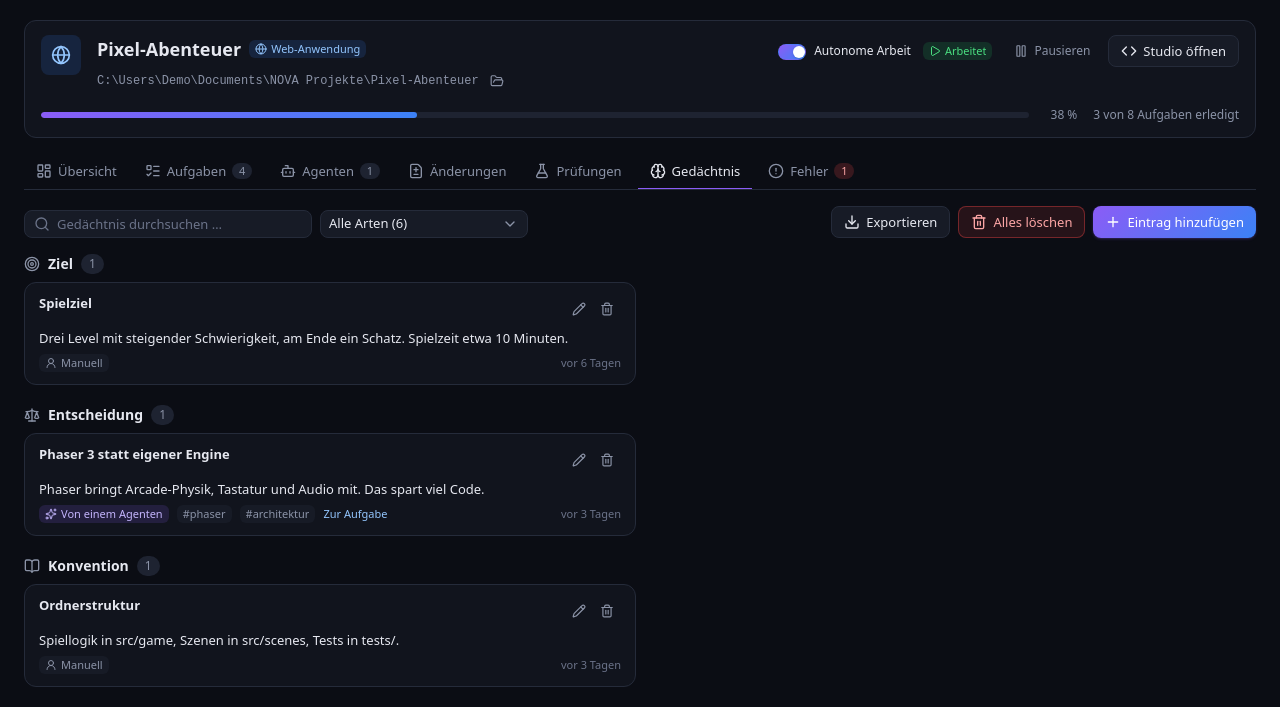
Gedächtnis › clears the whole project memory after confirmation
This screenshot has width=1280, height=707.
Expected: the element "Ziel" is shown, left=24, top=254, right=636, bottom=385
Click the button "Alles löschen" at x=1022, y=222, box left=958, top=206, right=1085, bottom=238
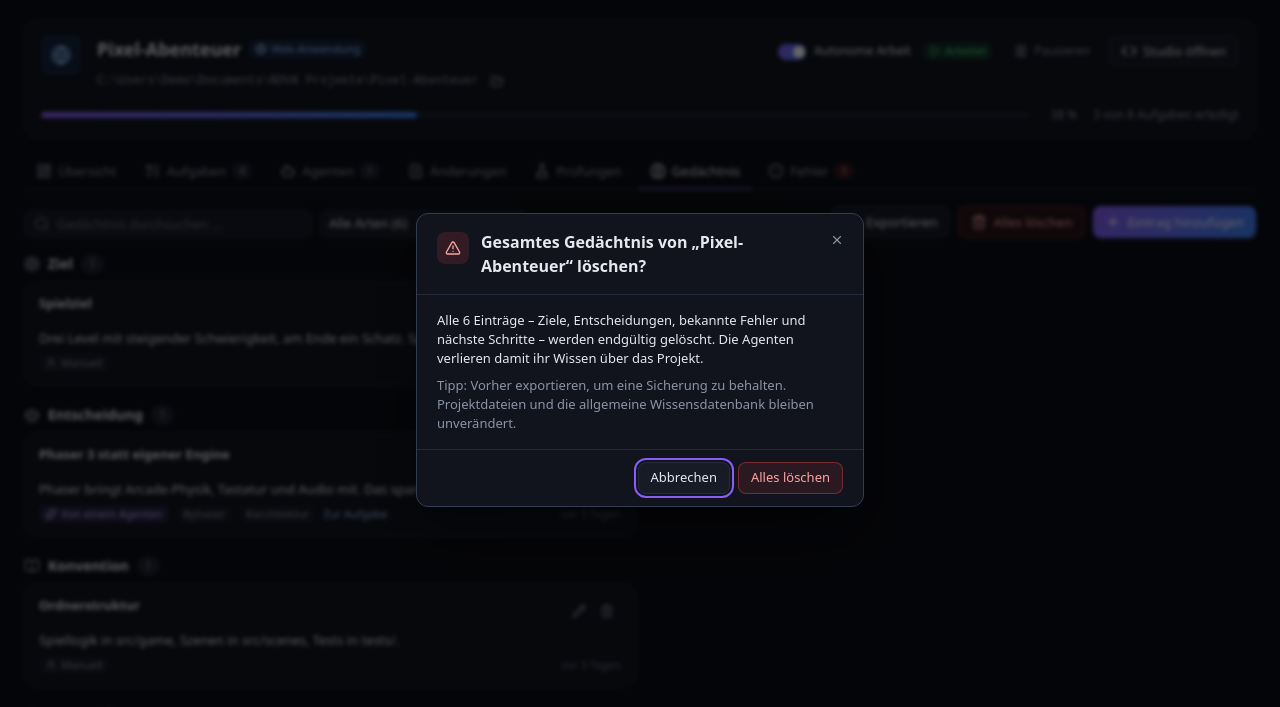
Click the button "Alles löschen" at x=790, y=478, box left=738, top=462, right=843, bottom=494
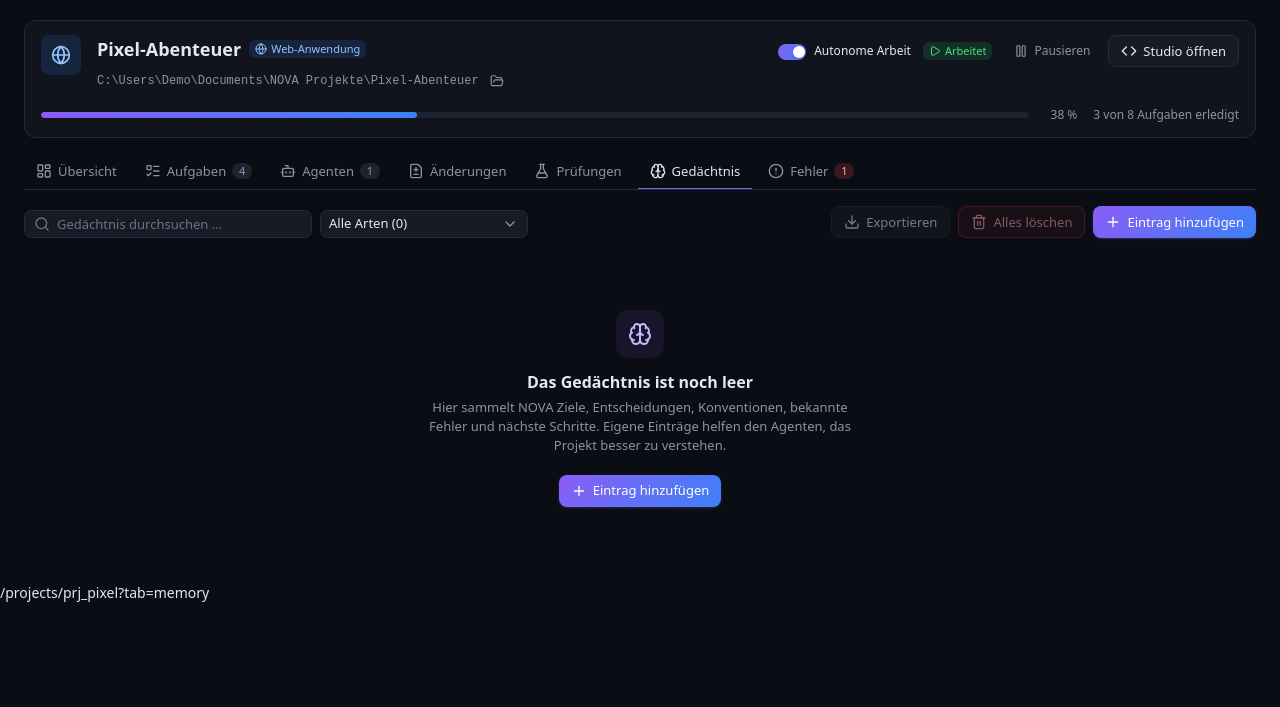
Expected: the text "Das Gedächtnis ist noch leer" is shown, left=527, top=371, right=753, bottom=393
